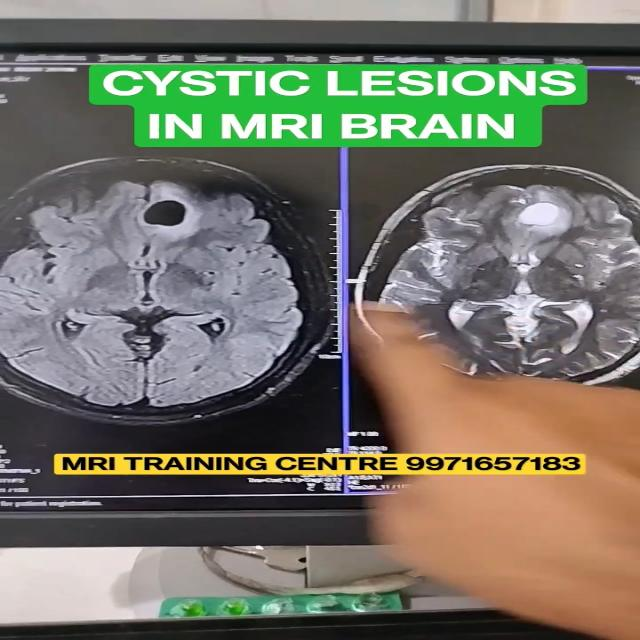tumor: (487, 182, 640, 241), (134, 187, 217, 234)
